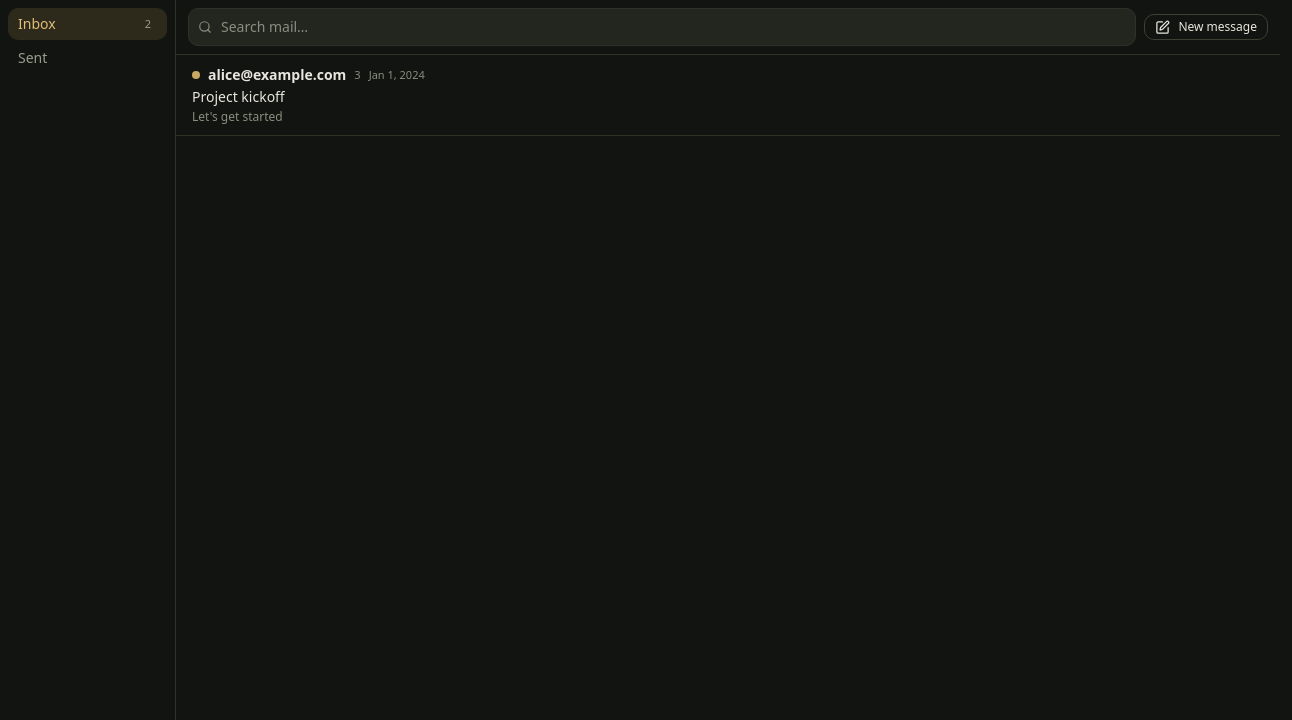
opens a thread and renders its message + attachment
This screenshot has width=1292, height=720.
Click the text "Project kickoff". click: (238, 97)
box: [192,87,285,107]
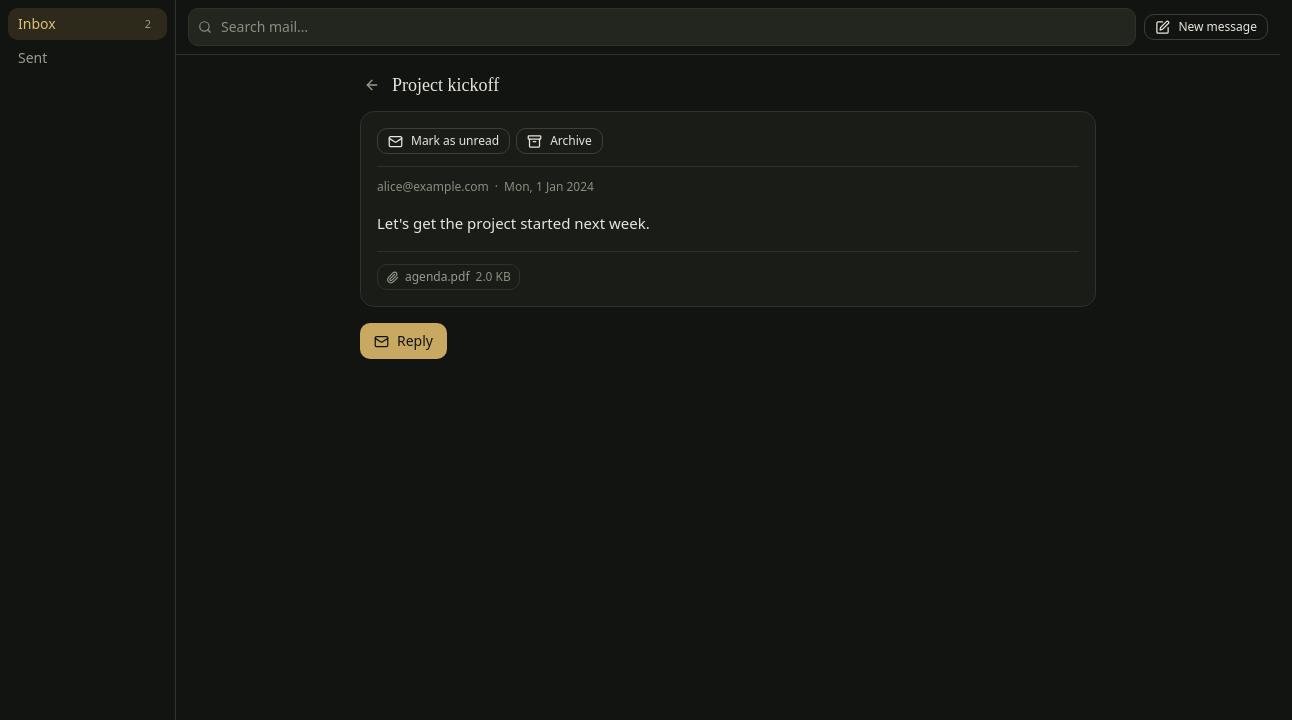
Check: the text "Let's get the project started next week." is shown, box [377,213,650,233]
